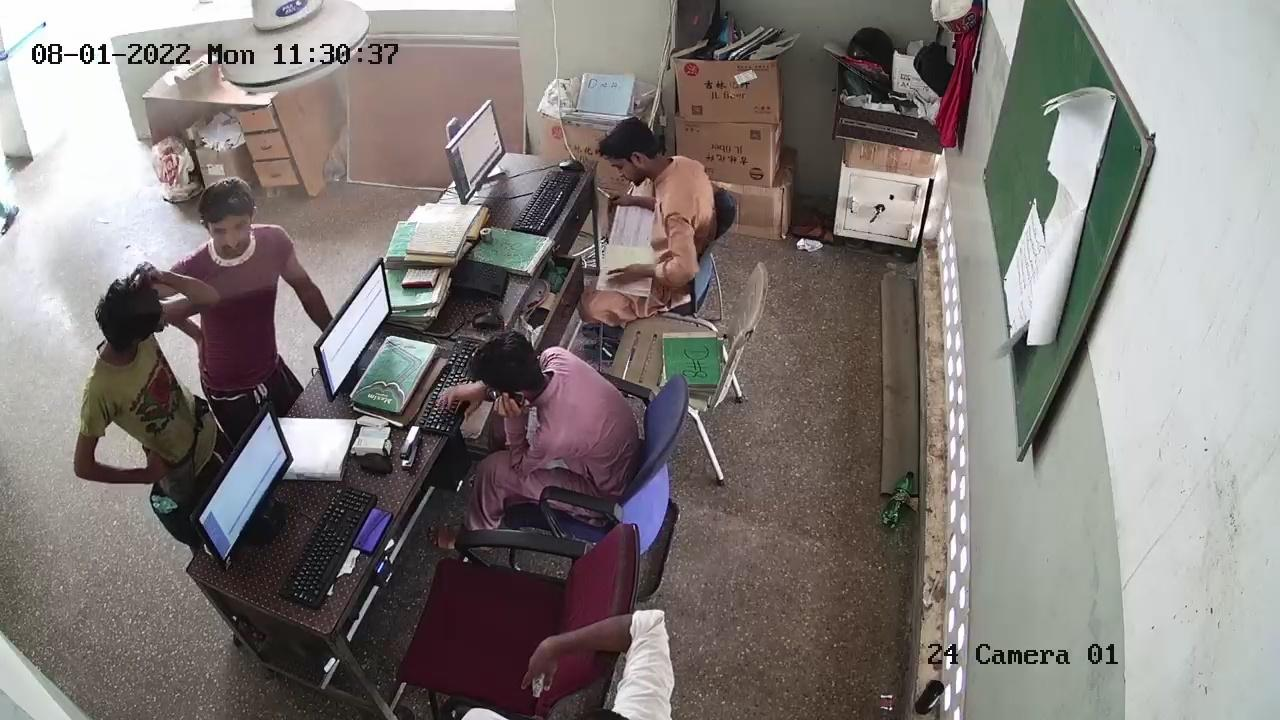person: (176, 195, 289, 420), (97, 288, 219, 482), (454, 343, 622, 463), (601, 125, 704, 287)
